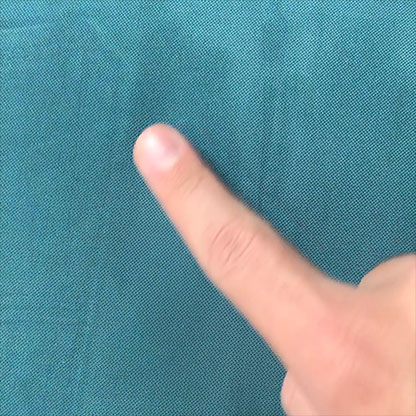fingertip: (123, 120, 197, 183)
